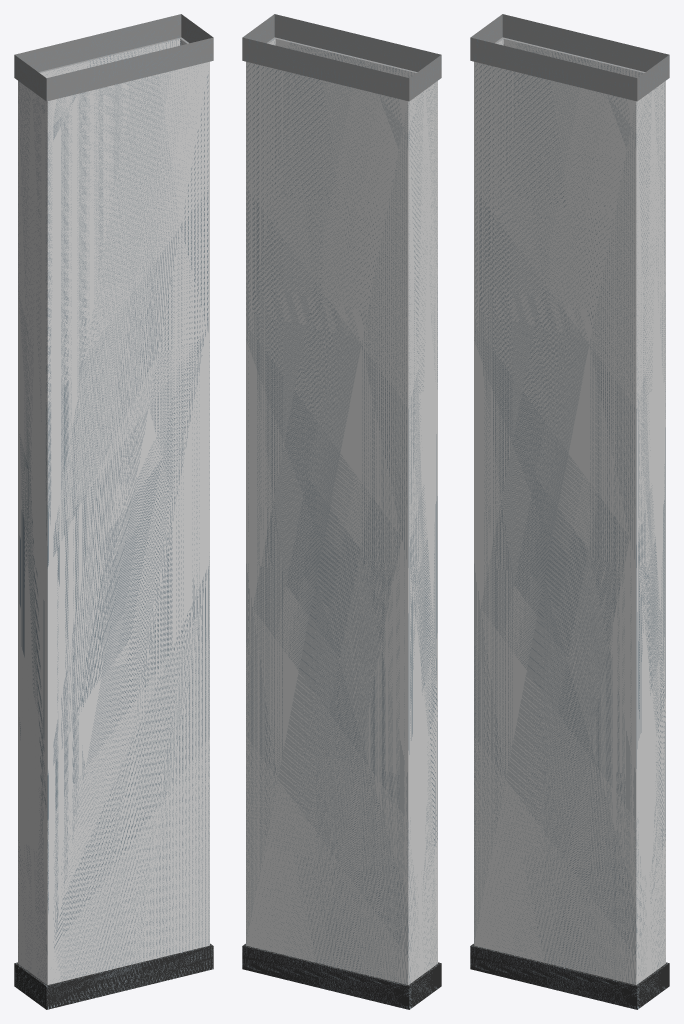
The model's file is Column_ds_plinth_075x025x4.dae.
3 views of the same model, side by side, from view 1: azimuth 30°, elevation 25°; view 2: azimuth 150°, elevation 25°; view 3: azimuth 330°, elevation 25° (orthographic).
Parts seen in each view (by area): view 1: group_0 (×3); view 2: group_0 (×3); view 3: group_0 (×3).
Boxes of the visible parts, <box> form: group_0 (×3): <box>14,14,213,1009</box>; group_0 (×3): <box>242,14,441,1009</box>; group_0 (×3): <box>470,14,669,1009</box>.
Size of the model in its own units: 29.53 by 9.84 by 157.
